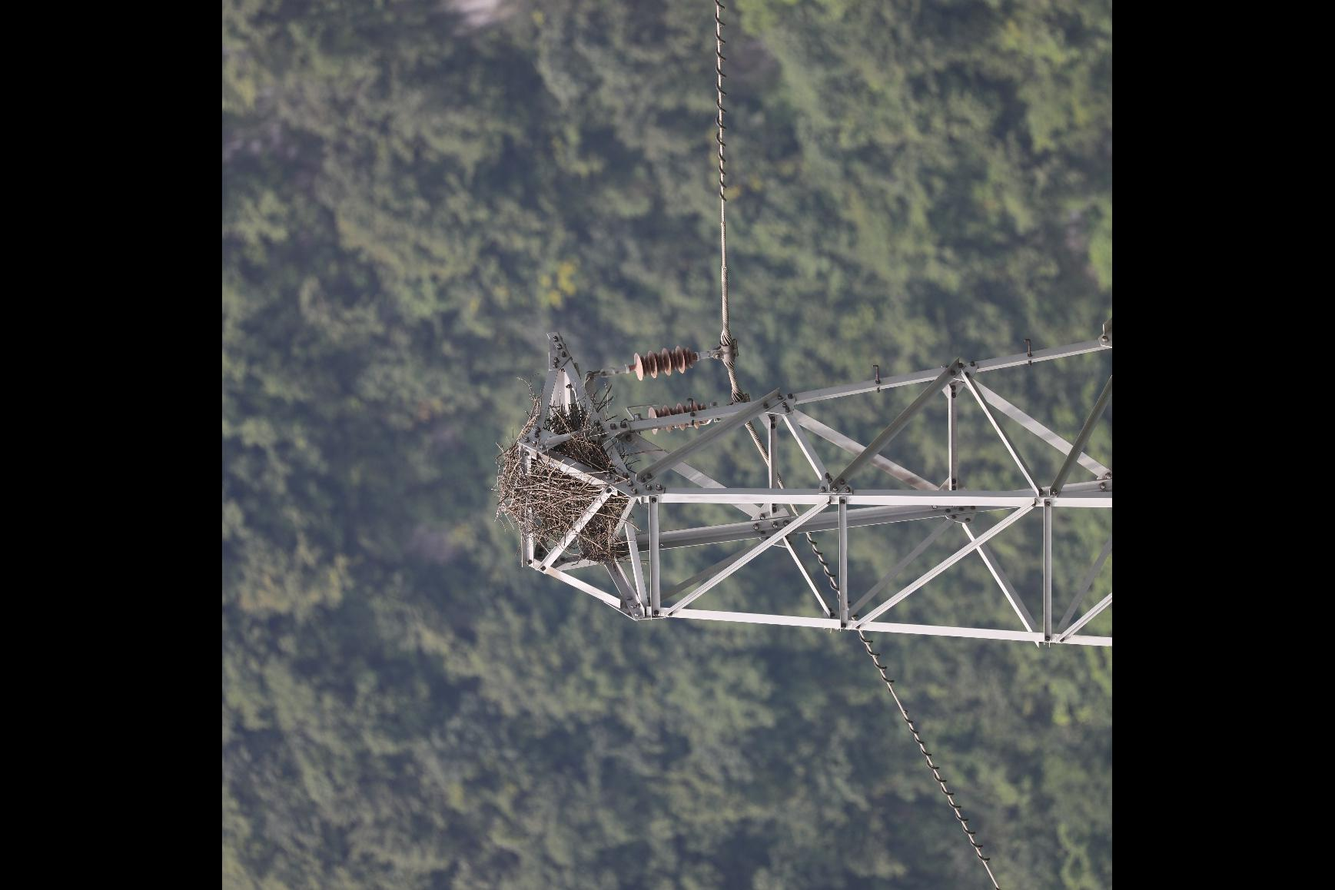nest: (487, 393, 633, 564)
